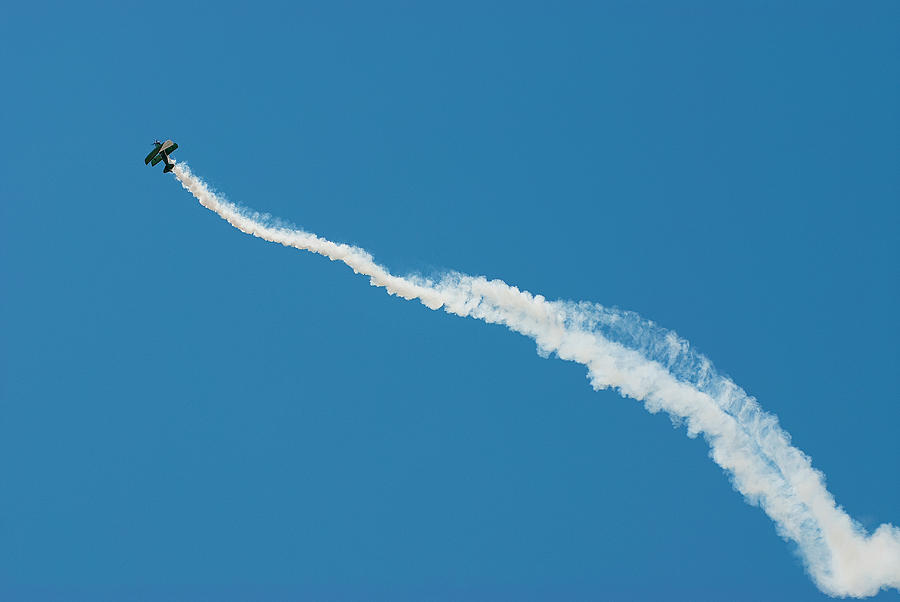plane: (142, 133, 185, 174)
